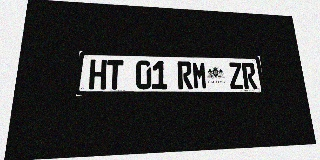0: (136, 60, 151, 89)
1: (152, 61, 167, 89)
H: (89, 59, 107, 90)
M: (192, 61, 208, 89)
R: (177, 61, 193, 89), (241, 63, 258, 89)
T: (106, 60, 123, 89)
Z: (228, 62, 244, 89)
